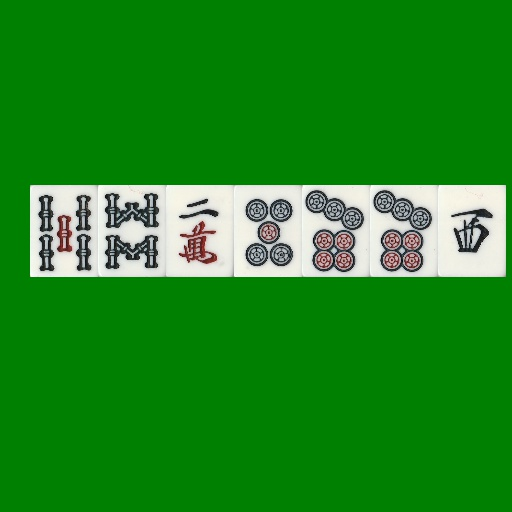2m: (166, 185, 234, 277)
5p: (234, 185, 302, 277)
5s: (30, 185, 98, 277)
7p: (302, 185, 370, 277), (370, 185, 438, 277)
8s: (98, 185, 166, 277)
west: (438, 185, 506, 277)
